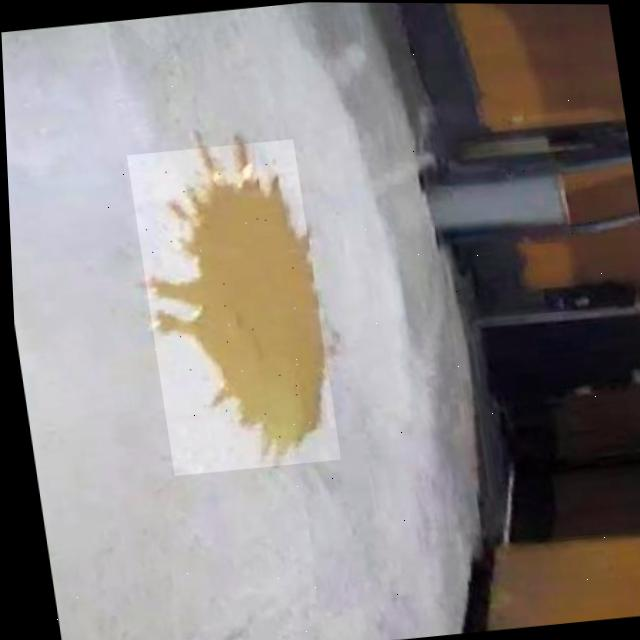spillage: (143, 144, 319, 465)
